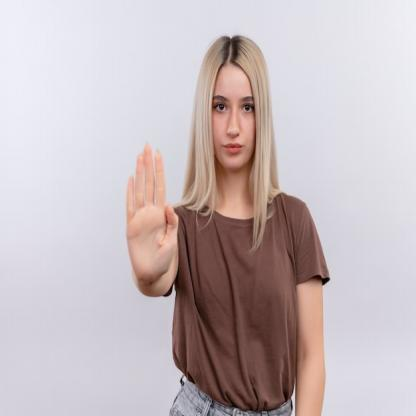stop: (123, 138, 179, 284)
